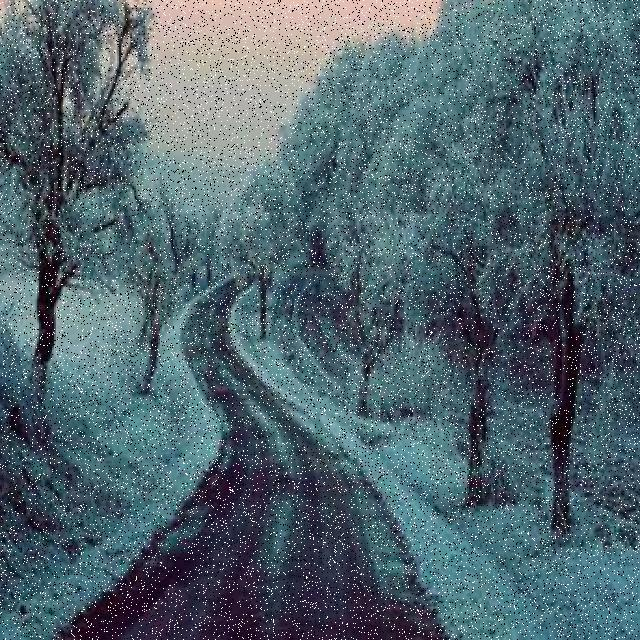ice-road: (65, 281, 444, 640)
